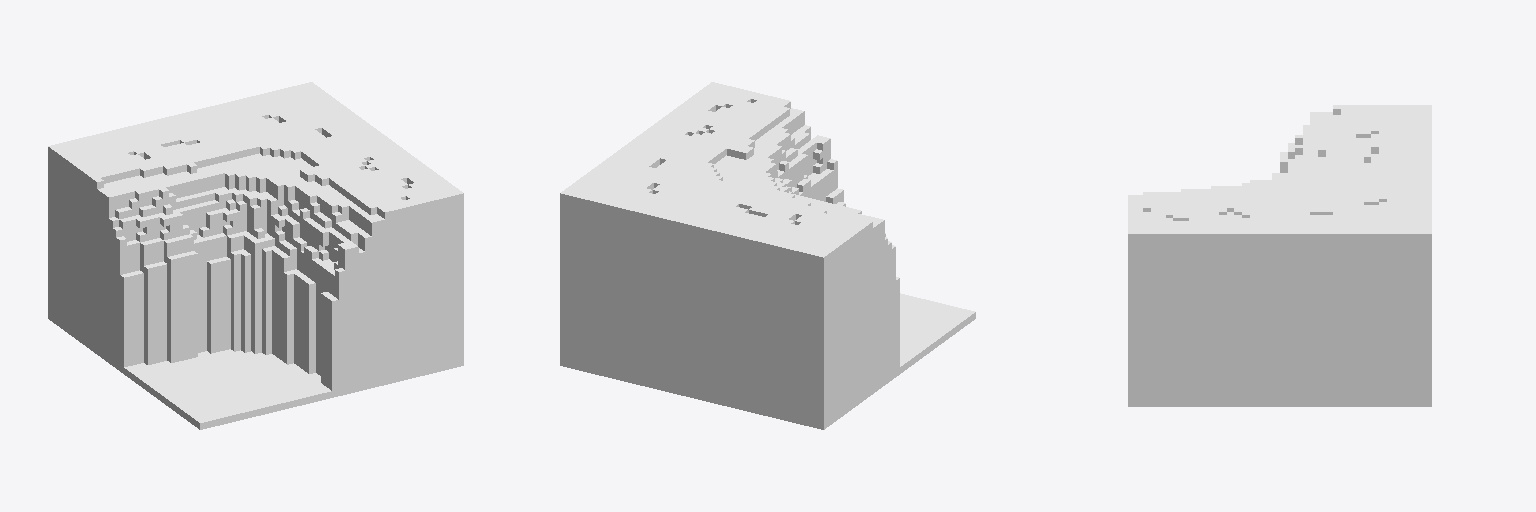
File: tile-cornermountain-2.obj
3 renders of one model, left to right at view 1: azimuth 30°, elevation 25°; view 2: azimuth 150°, elevation 25°; view 3: azimuth 270°, elevation 25°, orthographic.
Visible parts, largest first — view 1: tile-cornermountain-2; view 2: tile-cornermountain-2; view 3: tile-cornermountain-2.
Boxes of the visible parts, <box> form: tile-cornermountain-2: <box>48,82,463,429</box>; tile-cornermountain-2: <box>560,82,975,429</box>; tile-cornermountain-2: <box>1128,105,1431,406</box>.
Bounding box in the file's own units: 40 × 25 × 40.